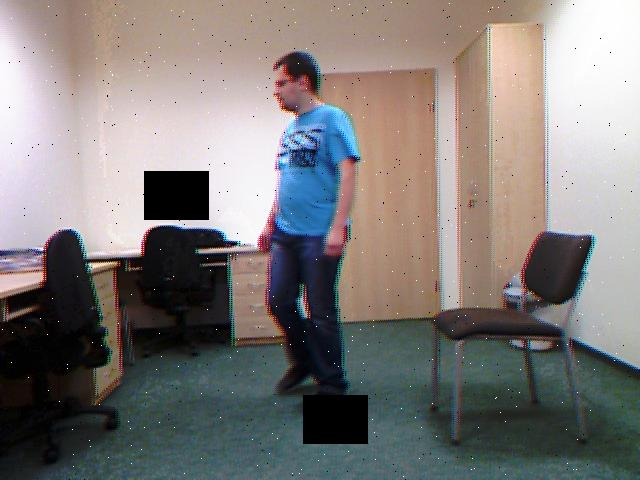walking: (245, 35, 374, 413)
